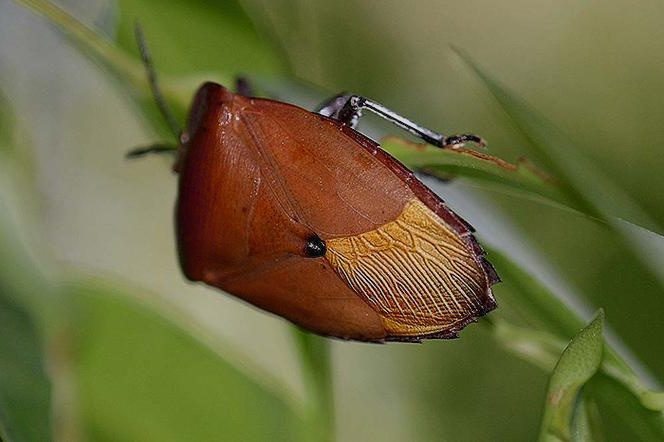Stink_Bug: (160, 86, 469, 330)
